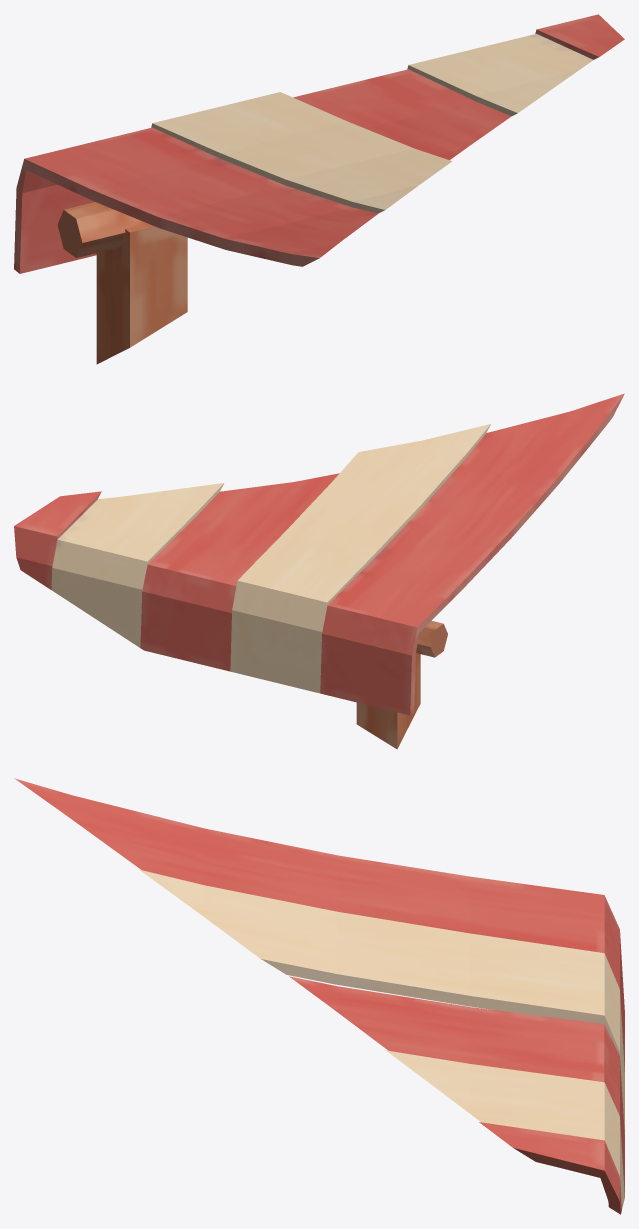
File: stall_s06.fbx
The picture shows the model from 3 angles, top to bottom: view 1: azimuth 30°, elevation 25°; view 2: azimuth 150°, elevation 25°; view 3: azimuth 270°, elevation 25°; orthographic projection. The views are drawn at different scales.
Parts seen in each view (by area): view 1: stall_s06; view 2: stall_s06; view 3: stall_s06.
Part boxes in pixels (box(x1,y1,x2,y2)): stall_s06: box(14, 14, 624, 364); stall_s06: box(14, 393, 624, 749); stall_s06: box(14, 778, 624, 1214).
Size of the model in its own units: 3.98 by 2.11 by 3.67.
